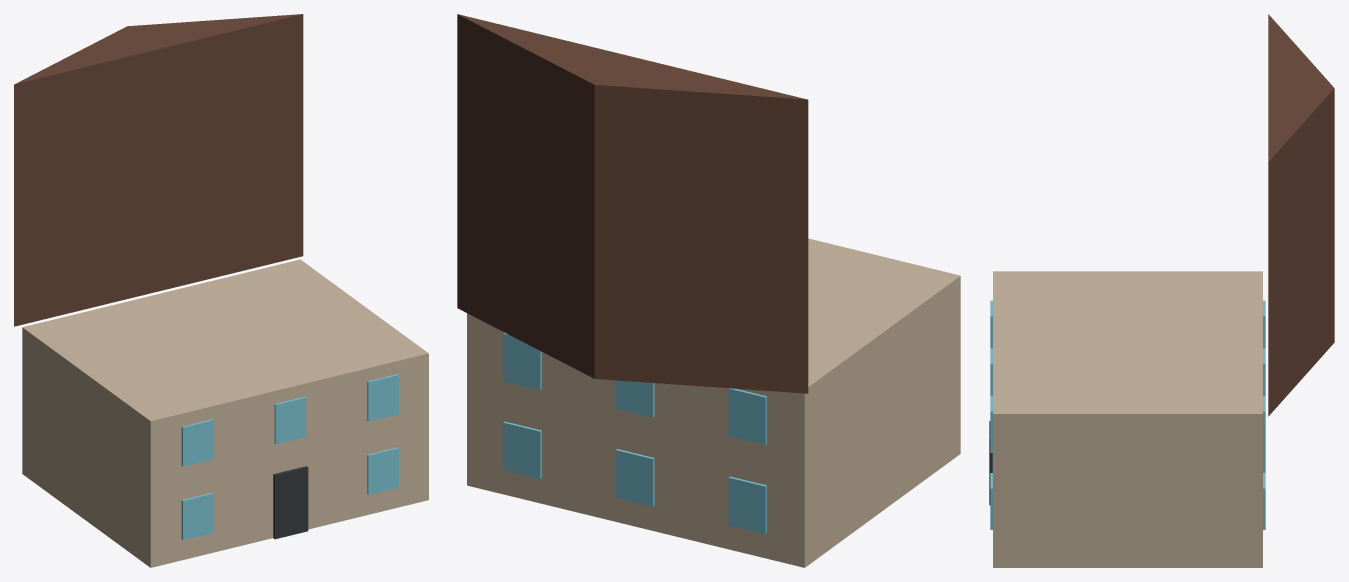
The model's file is house_01.glb.
3 views of the same model, side by side, from view 1: azimuth 30°, elevation 25°; view 2: azimuth 150°, elevation 25°; view 3: azimuth 270°, elevation 25° (orthographic). The views are drawn at different scales.
Parts seen in each view (by area): view 1: body, roof, win (×5), door; view 2: roof, body, win (×6); view 3: body, roof.
Boxes of the visible parts, bbox=[...] form: body: bbox=[22, 259, 428, 567]; roof: bbox=[14, 14, 303, 326]; win (×5): bbox=[181, 374, 398, 539]; door: bbox=[273, 466, 308, 539]; roof: bbox=[457, 14, 808, 393]; body: bbox=[467, 238, 960, 567]; win (×6): bbox=[503, 332, 766, 534]; body: bbox=[993, 271, 1262, 567]; roof: bbox=[1268, 14, 1334, 416].
Bounding box in the file's own units: 10.4 × 13.36 × 10.23.
